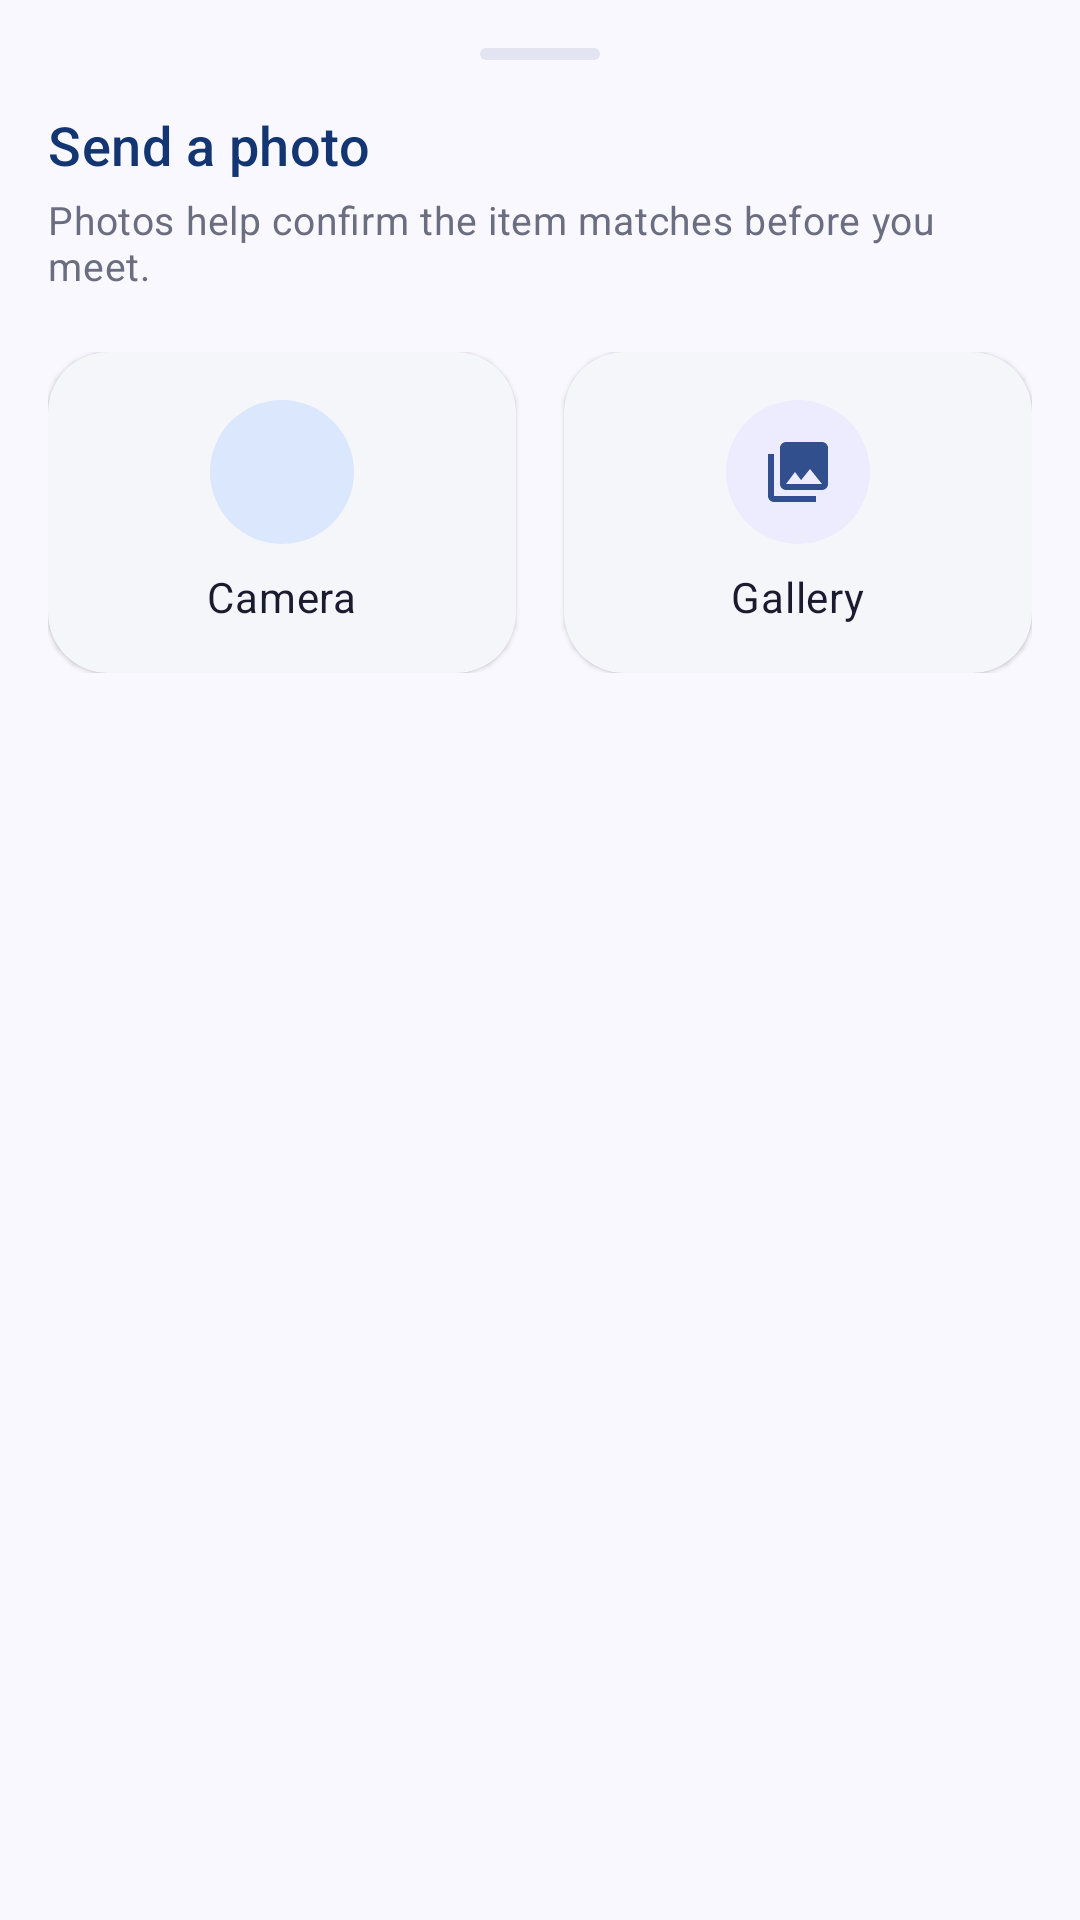

Where to tap for icons on this 1080×1920 app screen, as (x=x, y=y):
photo library: (x=798, y=472)
